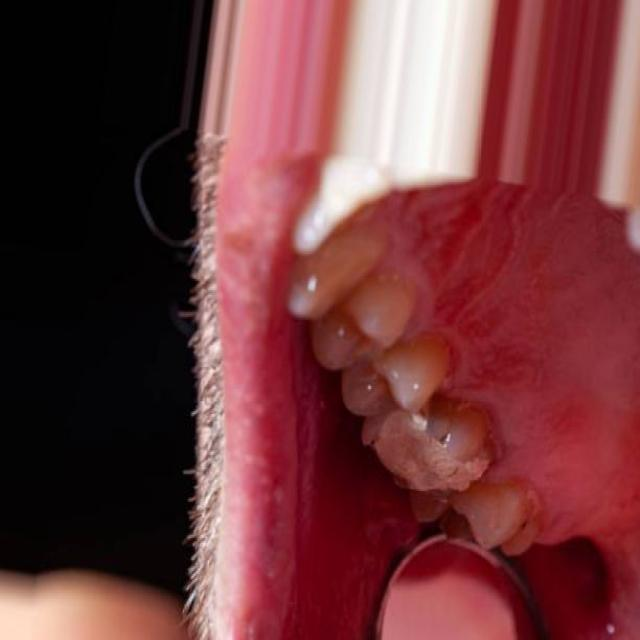caries: (376, 398, 482, 501)
